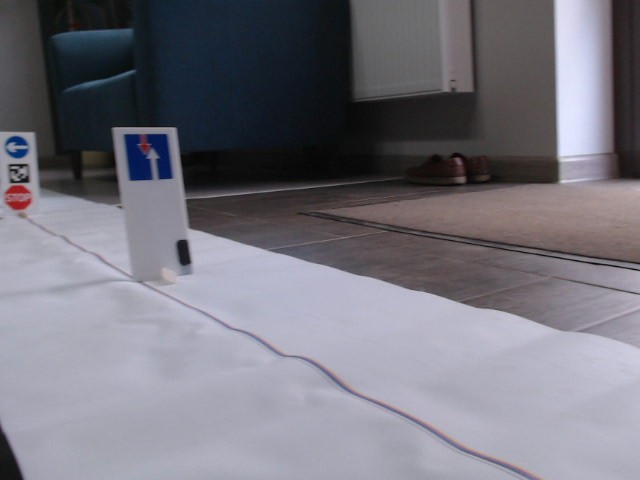Stop: (3, 185, 33, 209)
priority_movement: (121, 131, 173, 181)
